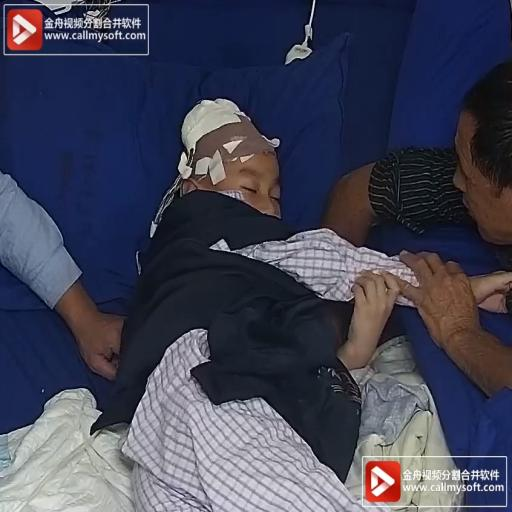Seizure: (232, 161, 288, 218)
